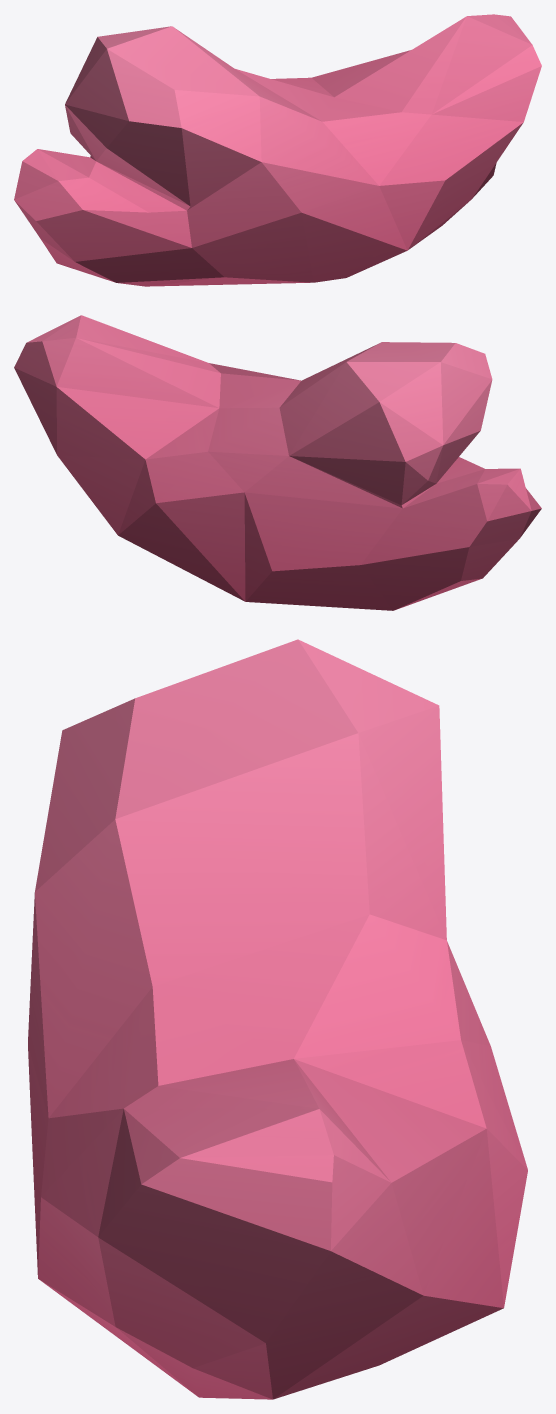
File: bush_crescent_pink.fbx
3 views of the same model, one above another, from view 1: azimuth 30°, elevation 25°; view 2: azimuth 150°, elevation 25°; view 3: azimuth 270°, elevation 25° (orthographic). The views are drawn at different scales.
Parts seen in each view (by area): view 1: bush_crescent_pink; view 2: bush_crescent_pink; view 3: bush_crescent_pink.
Part boxes in pixels (x1,y1,x2,y2): bush_crescent_pink: (14, 14, 541, 286); bush_crescent_pink: (14, 315, 541, 610); bush_crescent_pink: (28, 639, 527, 1399).
Size of the model in its own units: 4 by 1.8 by 1.7.
1 material, 1 textured.
